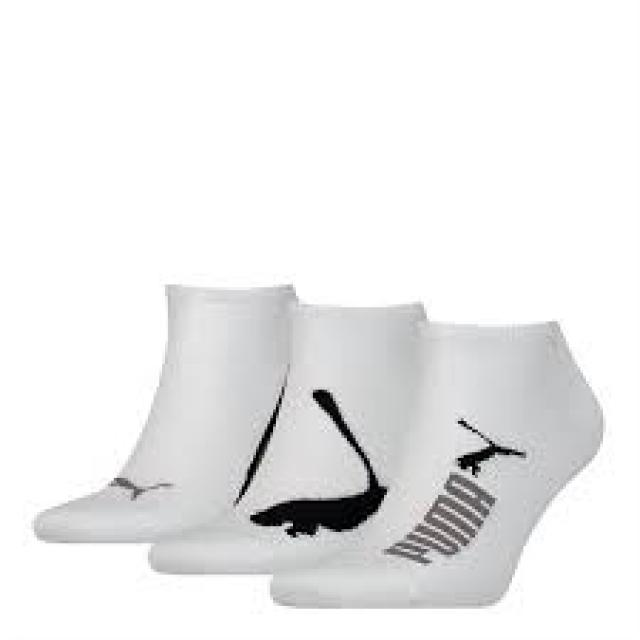sock: (31, 282, 299, 543)
